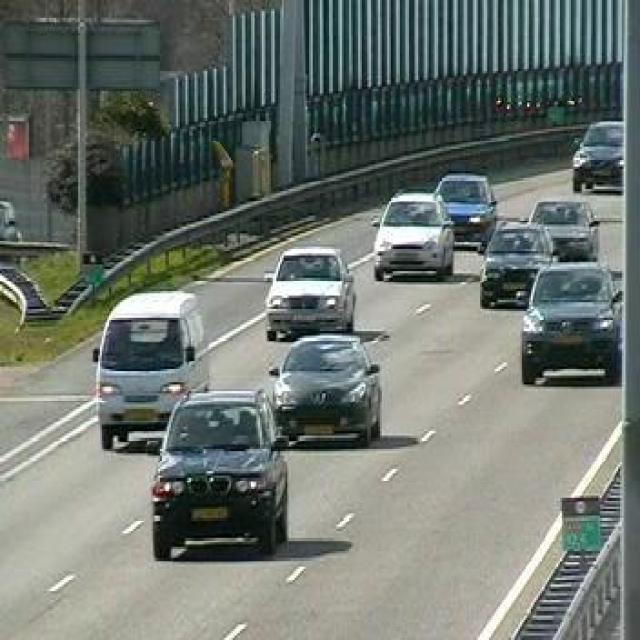other: (112, 281, 191, 324), (382, 219, 434, 245), (269, 281, 338, 297)
